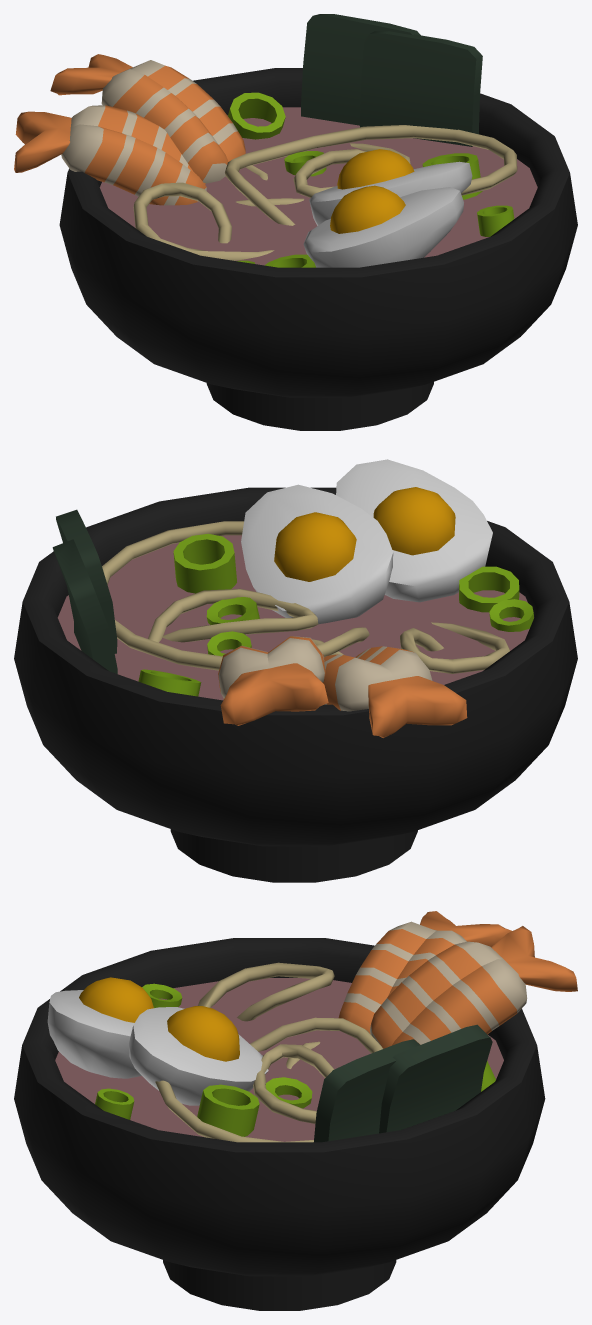
Rendered from ramen.glb.
The picture shows the model from 3 angles, top to bottom: view 1: azimuth 30°, elevation 25°; view 2: azimuth 150°, elevation 25°; view 3: azimuth 270°, elevation 25°; orthographic projection. The views are drawn at different scales.
Visible parts, largest first — view 1: Food_Ramen; view 2: Food_Ramen; view 3: Food_Ramen.
Boxes of the visible parts, x1,y1,x2,y2 form: Food_Ramen: [14, 14, 577, 430]; Food_Ramen: [14, 459, 577, 882]; Food_Ramen: [14, 911, 577, 1310].
Bounding box in the file's own units: 0.9933 × 0.5834 × 1.05.
